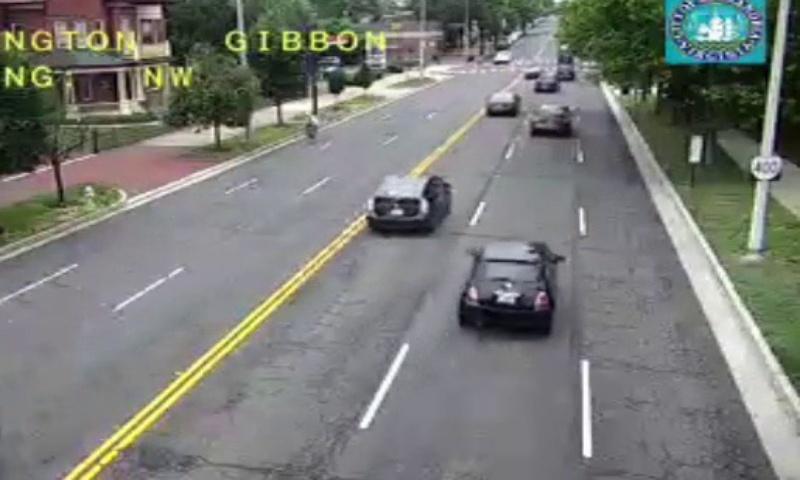car: (460, 240, 555, 319), (365, 175, 448, 234), (530, 106, 571, 134), (487, 91, 518, 115)
